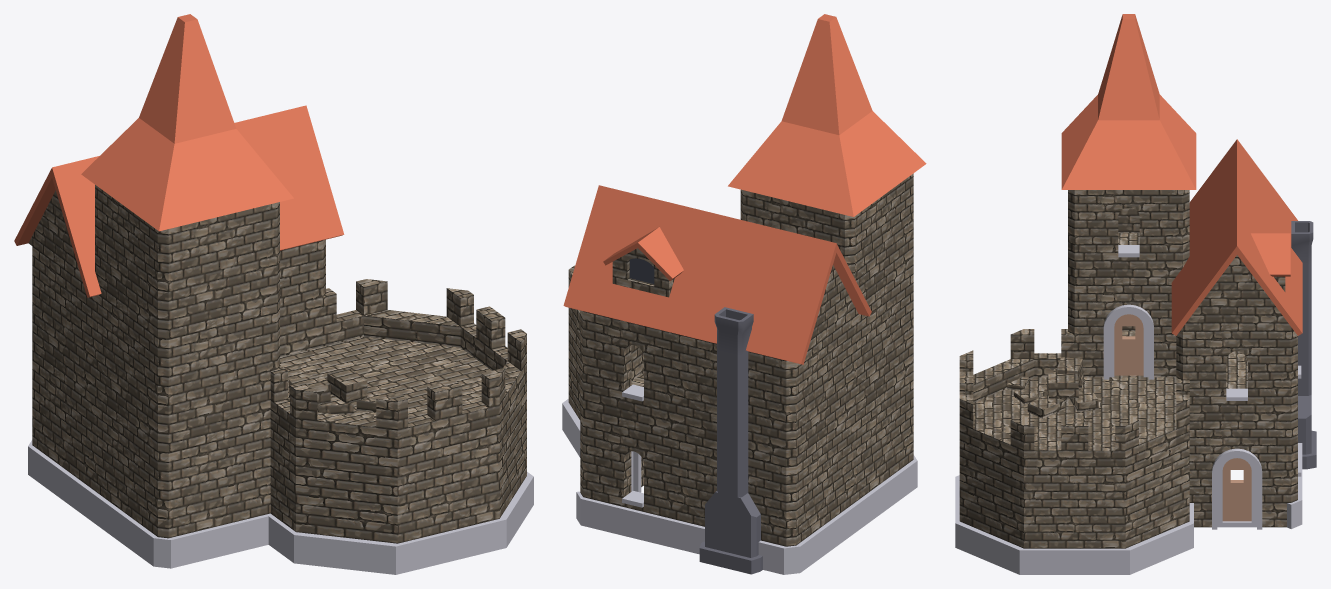
File: Castle.obj
The picture shows the model from 3 angles, left to right: view 1: azimuth 30°, elevation 25°; view 2: azimuth 150°, elevation 25°; view 3: azimuth 270°, elevation 25°; orthographic projection. The views are drawn at different scales.
Bounding box in the file's own units: 3.27 × 4.48 × 3.34.
12 materials, 2 textured.
